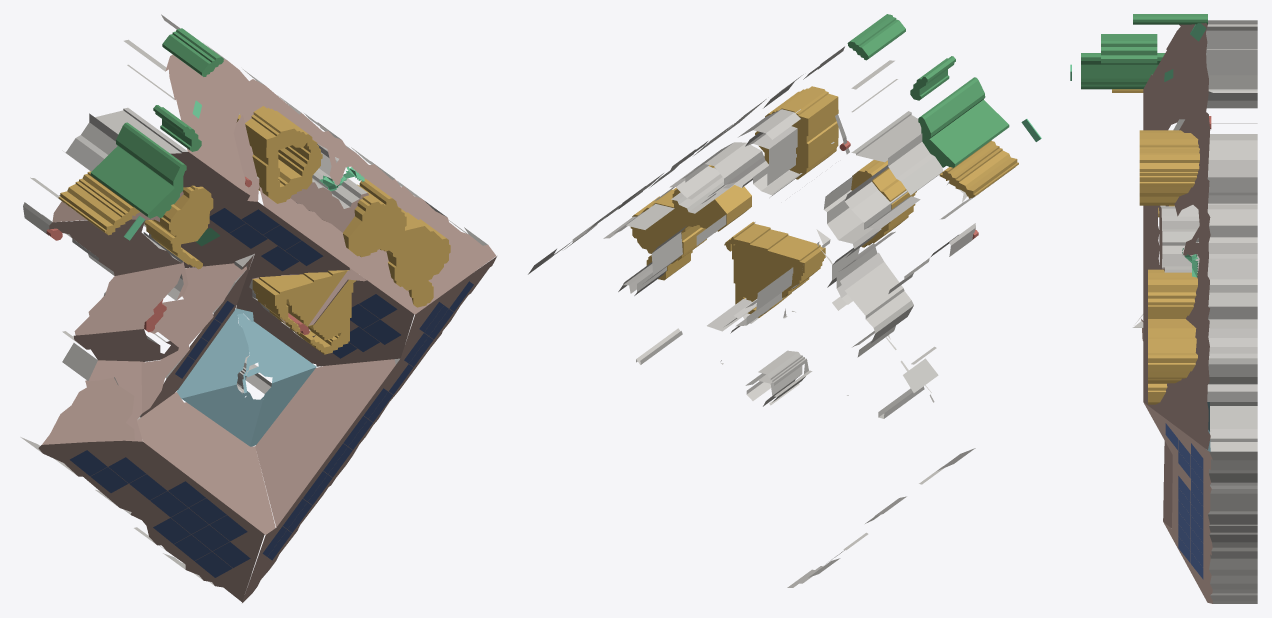
Rendered from roof_model.glb.
3 views of the same model, side by side, from view 1: azimuth 30°, elevation 25°; view 2: azimuth 150°, elevation 25°; view 3: azimuth 270°, elevation 25° (orthographic). The views are drawn at different scales.
Visible parts, largest first — view 1: pv_modules, roof_face_5, roof_face_6, roof_face_12, roof_face_1, walls, roof_face_2, obstruction_8, obstruction_3, roof_face_16, obstruction_4, roof_face_11 (+18 smaller); view 2: walls, obstruction_3, obstruction_8, obstruction_14, obstruction_4, obstruction_16, obstruction_5, obstruction_1, obstruction_15, obstruction_2; view 3: walls, roof_face_5, obstruction_8, obstruction_4, roof_face_3, pv_modules, obstruction_3, obstruction_2, obstruction_1, roof_face_1.
Part boxes in pixels (bbox=[...]): pv_modules: bbox=[70, 208, 473, 577]; roof_face_5: bbox=[165, 54, 495, 314]; roof_face_6: bbox=[170, 152, 414, 366]; roof_face_12: bbox=[255, 359, 395, 527]; roof_face_1: bbox=[137, 392, 275, 534]; walls: bbox=[20, 14, 487, 585]; roof_face_2: bbox=[38, 440, 264, 601]; obstruction_8: bbox=[343, 179, 450, 307]; obstruction_3: bbox=[90, 122, 186, 218]; roof_face_16: bbox=[141, 263, 246, 413]; obstruction_4: bbox=[236, 106, 322, 203]; roof_face_11: bbox=[74, 261, 188, 335]; walls: bbox=[528, 46, 976, 587]; obstruction_3: bbox=[918, 77, 1009, 167]; obstruction_8: bbox=[630, 165, 751, 280]; obstruction_14: bbox=[724, 221, 825, 299]; obstruction_4: bbox=[755, 86, 838, 179]; obstruction_16: bbox=[939, 140, 1018, 198]; obstruction_5: bbox=[851, 160, 916, 247]; obstruction_1: bbox=[847, 14, 905, 60]; obstruction_15: bbox=[732, 245, 791, 317]; obstruction_2: bbox=[910, 56, 955, 100]; walls: bbox=[1132, 20, 1257, 603]; roof_face_5: bbox=[1143, 23, 1210, 449]; obstruction_8: bbox=[1148, 269, 1197, 404]; obstruction_4: bbox=[1139, 130, 1199, 205]; roof_face_3: bbox=[1144, 403, 1212, 603]; pv_modules: bbox=[1165, 423, 1203, 579]; obstruction_3: bbox=[1081, 53, 1164, 89]; obstruction_2: bbox=[1101, 34, 1157, 64]; obstruction_1: bbox=[1133, 14, 1207, 24]; roof_face_1: bbox=[1163, 441, 1205, 527].
Bounding box in the file's own units: 26.9 × 33.15 × 10.06.
